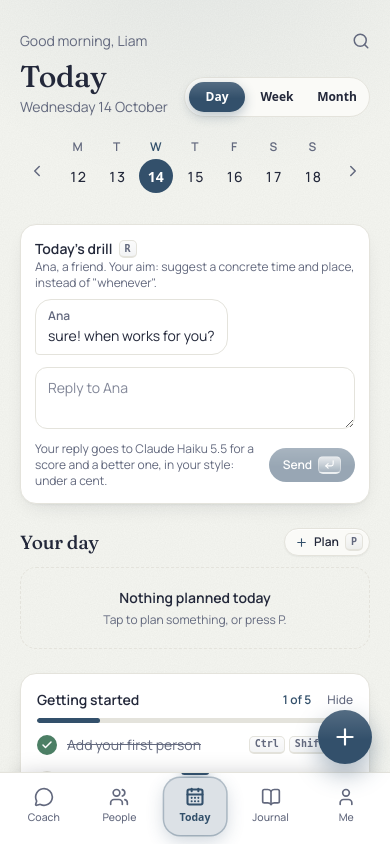
Test: Analyse all new › Sunday's week review sends you to it
The width and height of the screenshot is (390, 844).
Click the button "Today": (195, 807) x1=157 y1=781 x2=233 y2=832
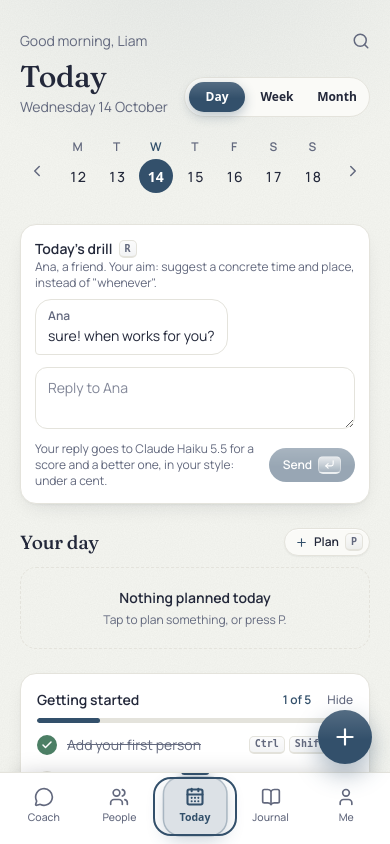
Type keys "w"
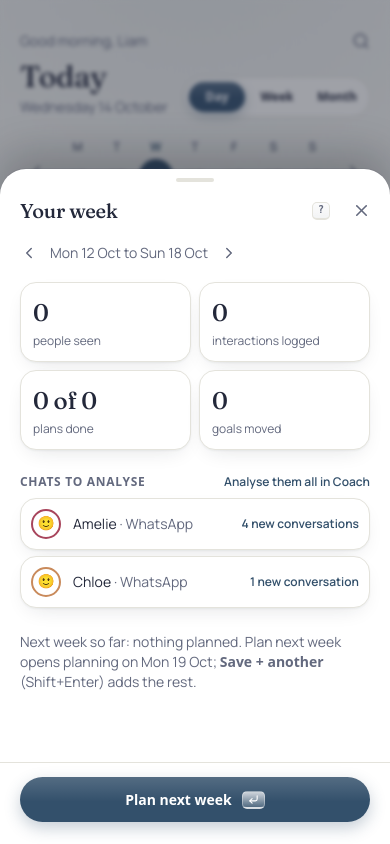
Click the button "Analyse them all in Coach": (297, 482) x1=224 y1=474 x2=370 y2=490
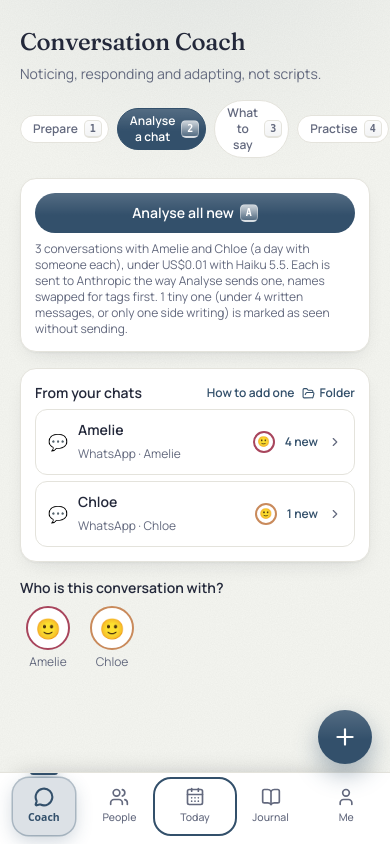
Result: the element labelled "Analyse all new" is shown at x1=20 y1=178 x2=370 y2=352
